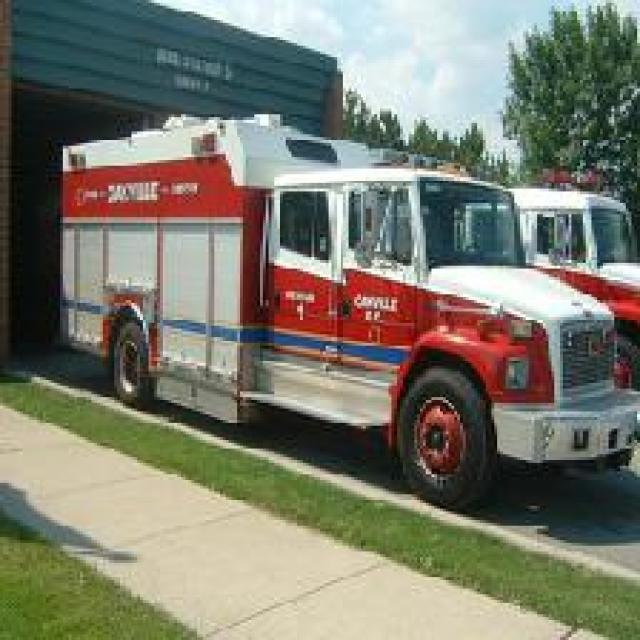emergency: (51, 105, 637, 511)
